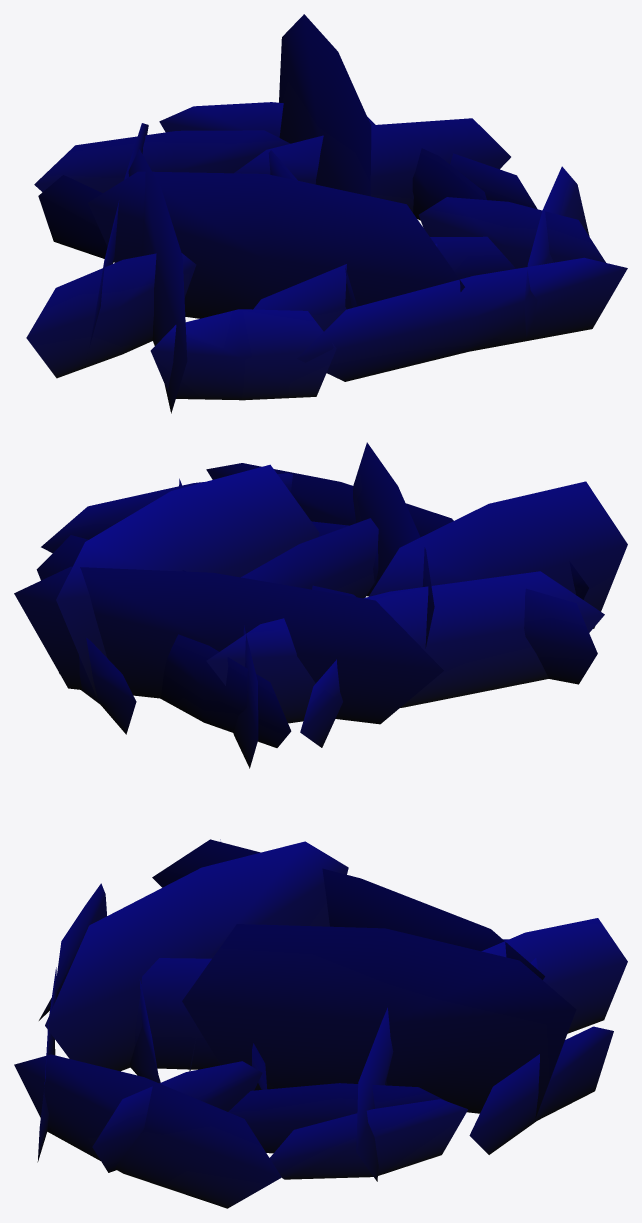
Rendered from SM_Grass_XS_Patch_M_01.fbx.
3 views of the same model, one above another, from view 1: azimuth 30°, elevation 25°; view 2: azimuth 150°, elevation 25°; view 3: azimuth 270°, elevation 25° (orthographic). The views are drawn at different scales.
Parts seen in each view (by area): view 1: SM_Grass_XS_Patch_M_01; view 2: SM_Grass_XS_Patch_M_01; view 3: SM_Grass_XS_Patch_M_01.
Part boxes in pixels (x1,y1,x2,y2): SM_Grass_XS_Patch_M_01: (26, 14, 627, 413); SM_Grass_XS_Patch_M_01: (14, 442, 627, 768); SM_Grass_XS_Patch_M_01: (14, 839, 627, 1208).
Size of the model in its own units: 102 by 89 by 30.41.
